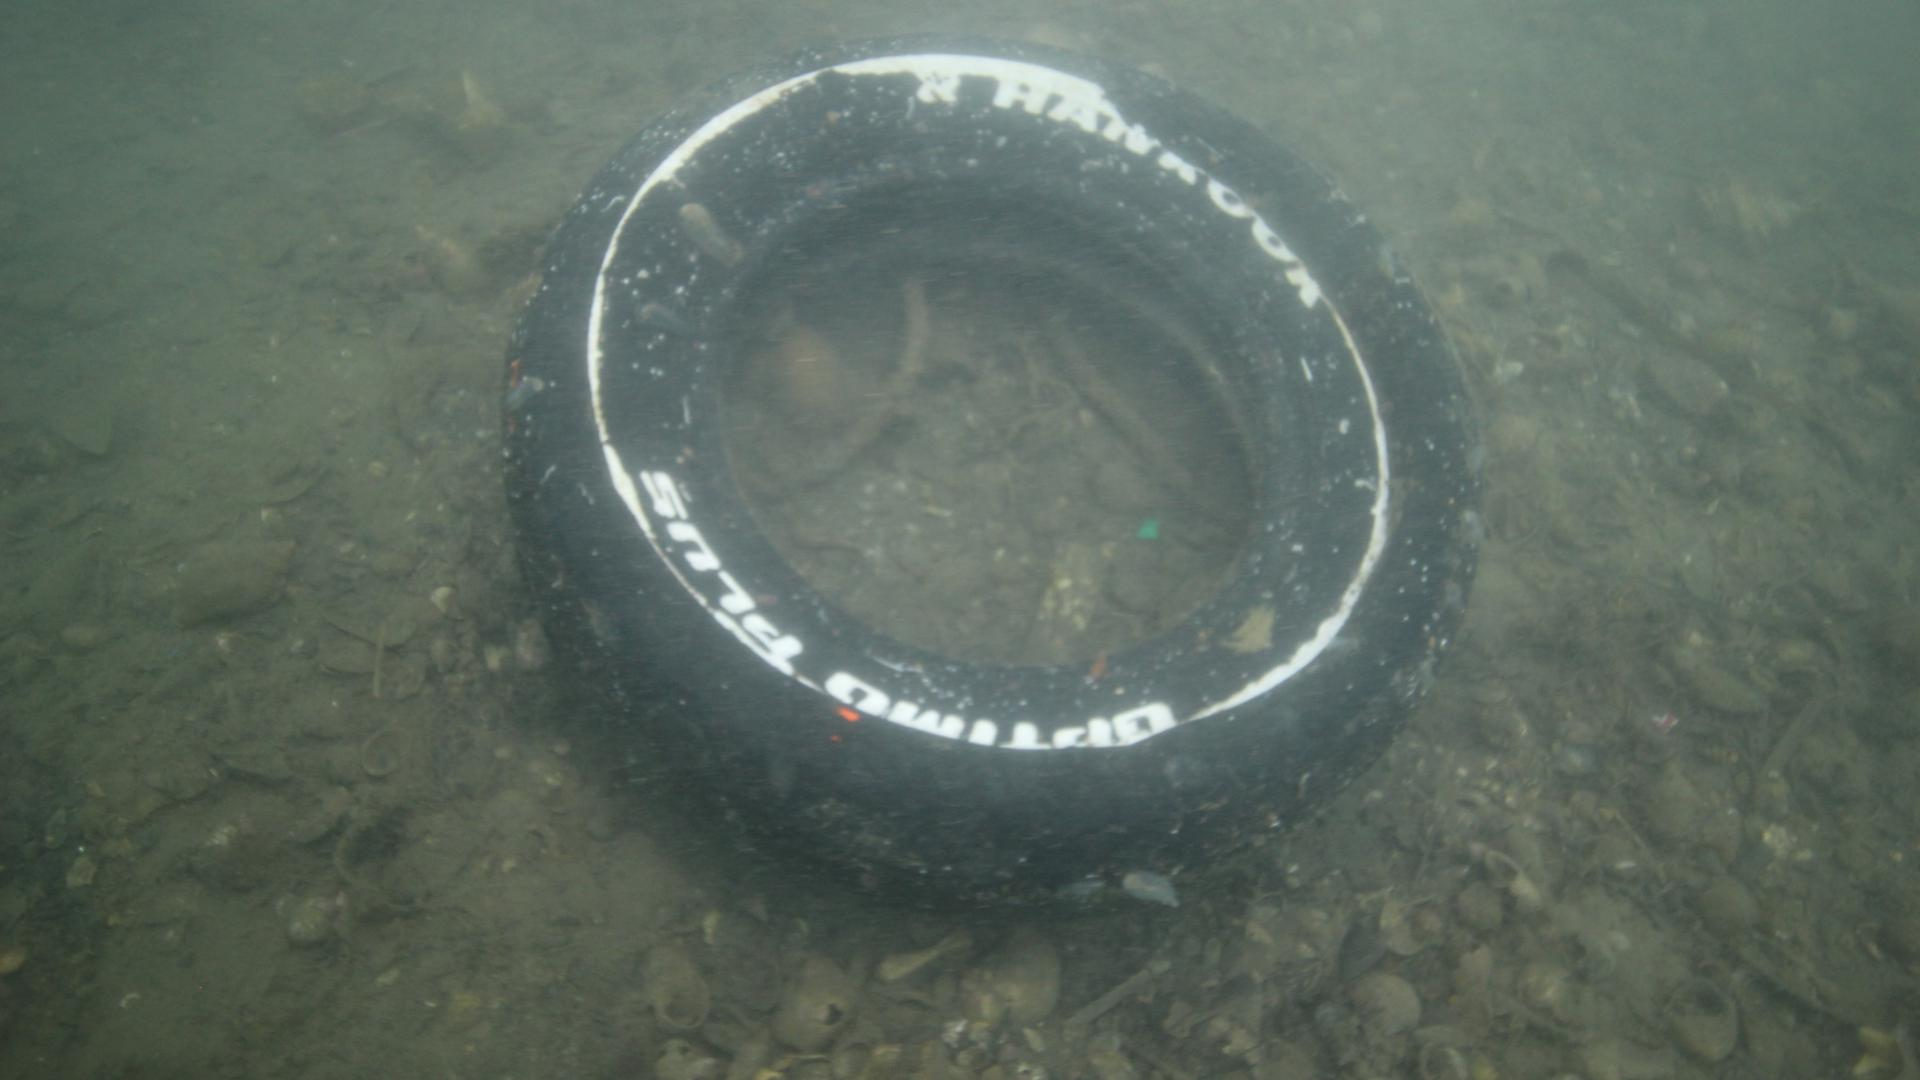tire: (501, 32, 1478, 919)
